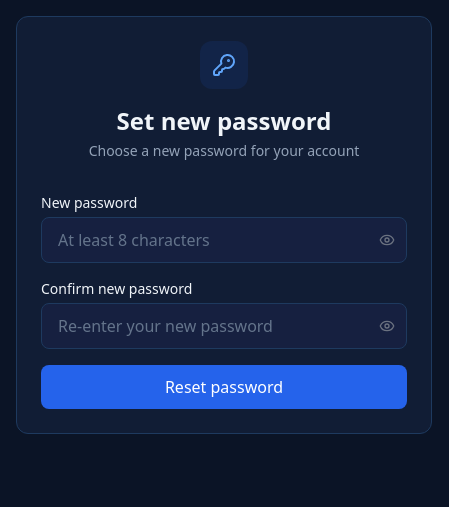
Test: ResetPasswordPage - client-side validation › rejects a confirm-password value that does not match
Type "TestPass2026!" into the password field labelled "New password" at (224, 240), box [41,217,407,263]
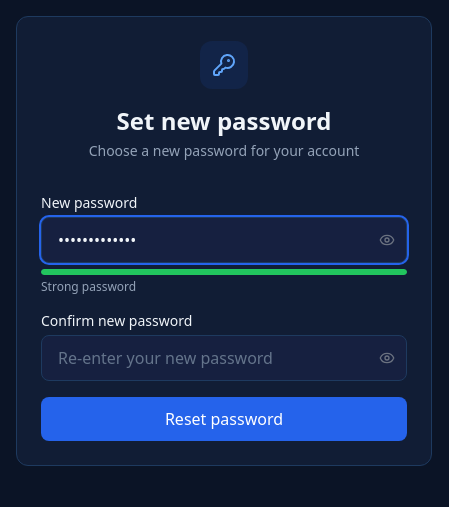
Type "DifferentPass1!" into the password field labelled "Confirm new password" at (224, 358), box [41,335,407,381]
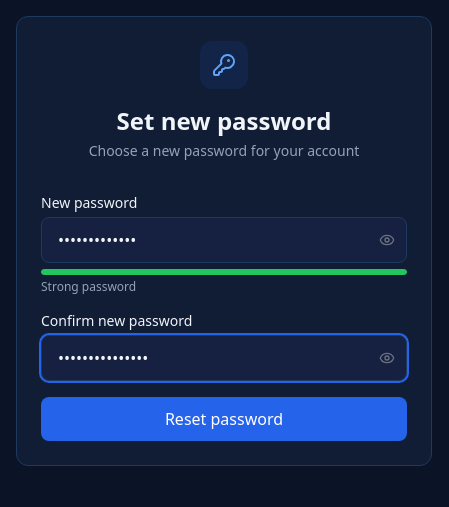
Click the button "Reset password" at (224, 419), box [41,397,407,441]
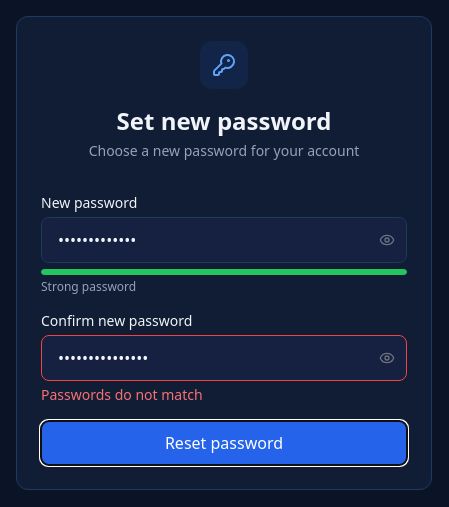
Expected: the text "Passwords do not match" is shown, [41,385,203,404]
